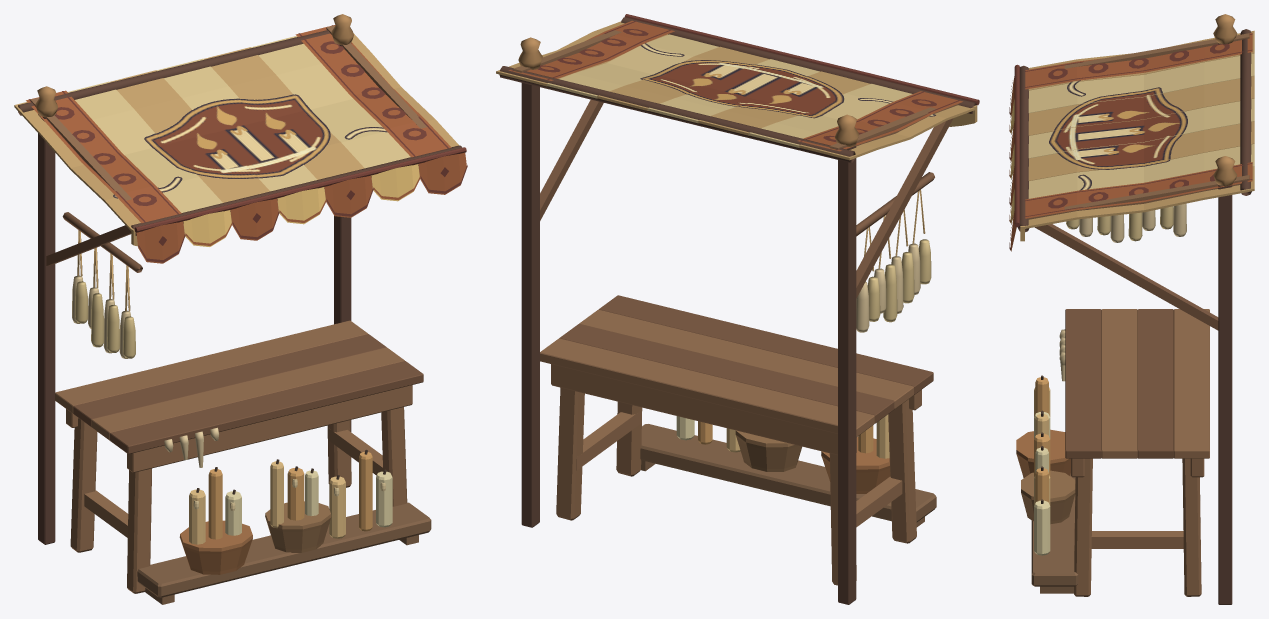
Rendered from stall_candlemaker.glb.
The picture shows the model from 3 angles, left to right: view 1: azimuth 30°, elevation 25°; view 2: azimuth 150°, elevation 25°; view 3: azimuth 270°, elevation 25°; orthographic projection. The views are drawn at different scales.
Parts seen in each view (by area): view 1: stall_candlemaker; view 2: stall_candlemaker; view 3: stall_candlemaker.
Part boxes in pixels (bbox=[...]): stall_candlemaker: bbox=[14, 14, 467, 604]; stall_candlemaker: bbox=[496, 14, 979, 604]; stall_candlemaker: bbox=[1009, 14, 1254, 604].
Bounding box in the file's own units: 1.9 × 2.5 × 1.24.
9 materials, 1 textured.
